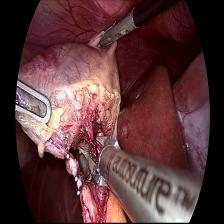Clipper: (85, 134, 125, 191)
Grasper: (12, 78, 52, 128), (97, 15, 136, 49)
